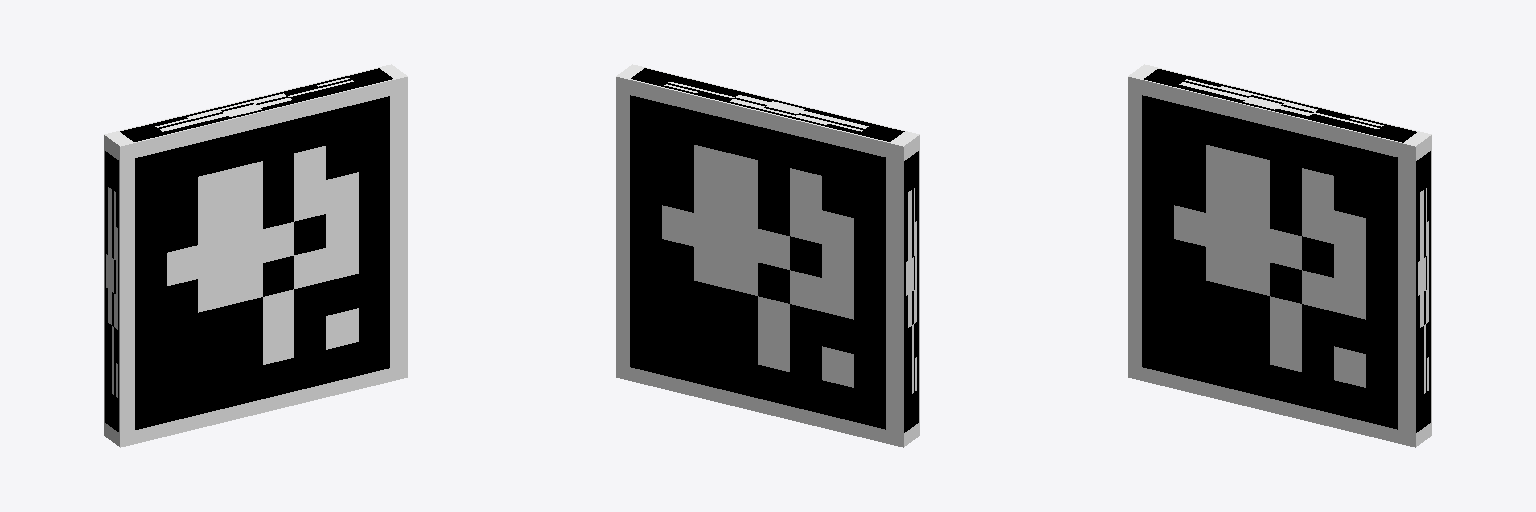
The picture shows the model from 3 angles: view 1: azimuth 30°, elevation 25°; view 2: azimuth 150°, elevation 25°; view 3: azimuth 330°, elevation 25°; orthographic projection.
Parts seen in each view (by area): view 1: Cube; view 2: Cube; view 3: Cube.
Boxes of the visible parts, x1,y1,x2,y2 form: Cube: [104, 64, 407, 447]; Cube: [616, 64, 919, 447]; Cube: [1128, 64, 1431, 447].
Bounding box in the file's own units: 2 × 2 × 0.2.
Materials: 1 (1 with a texture image).